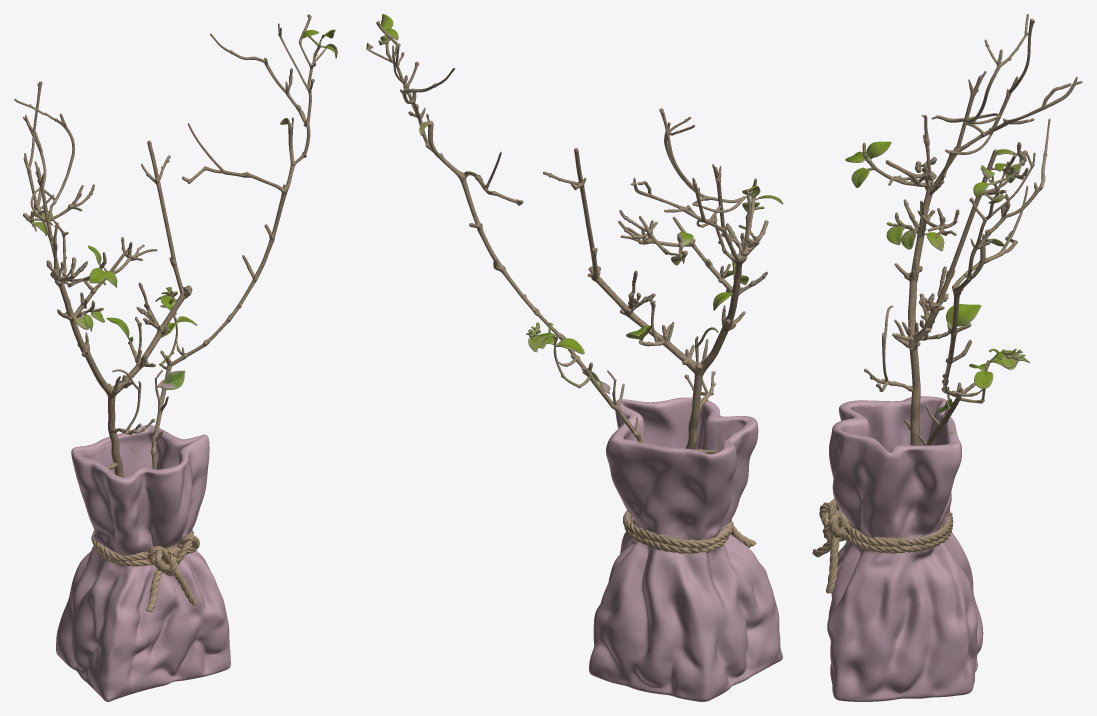
The model's file is Meshy_AI_Quiet_Spring_Vase_0920133521_texture.glb.
The picture shows the model from 3 angles, left to right: view 1: azimuth 30°, elevation 25°; view 2: azimuth 150°, elevation 25°; view 3: azimuth 270°, elevation 25°; orthographic projection. The views are drawn at different scales.
Bounding box in the file's own units: 1.13 × 1.91 × 0.73.
Materials: 1 (1 with a texture image).
